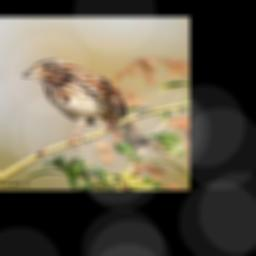Sparrow: (21, 58, 152, 152)
